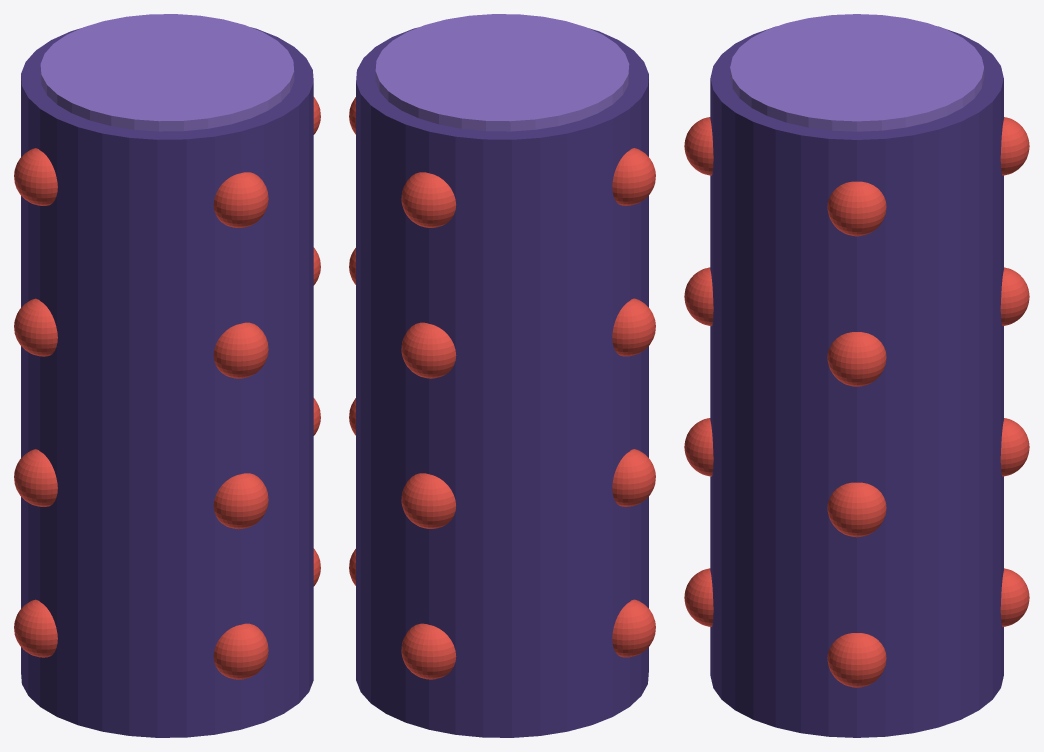
File: engel_deneme.fbx
The picture shows the model from 3 angles, left to right: view 1: azimuth 30°, elevation 25°; view 2: azimuth 150°, elevation 25°; view 3: azimuth 270°, elevation 25°; orthographic projection.
Visible parts, largest first — view 1: Sphere.002; view 2: Sphere.002; view 3: Sphere.002.
Part boxes in pixels (x1,y1,x2,y2): Sphere.002: [14, 14, 320, 737]; Sphere.002: [349, 14, 655, 737]; Sphere.002: [684, 14, 1029, 737].
Size of the model in its own units: 270 by 525 by 270.
